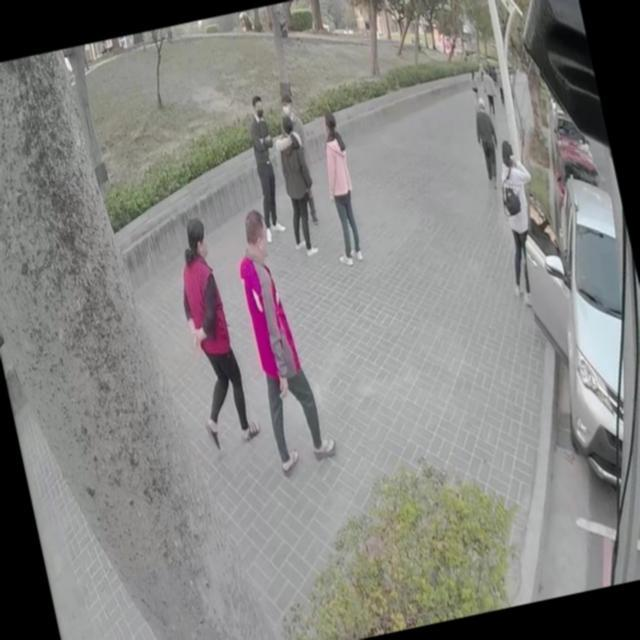person: (226, 202, 338, 474), (160, 211, 260, 447), (480, 129, 560, 313), (308, 107, 366, 262), (274, 86, 328, 237), (270, 118, 324, 254), (238, 100, 290, 241), (468, 98, 505, 186), (479, 66, 500, 118), (466, 66, 481, 102)
